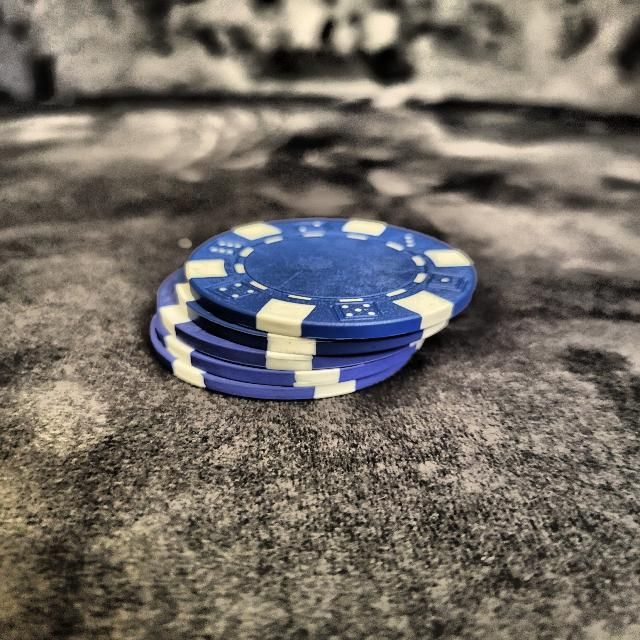Chip: (138, 203, 473, 410)
